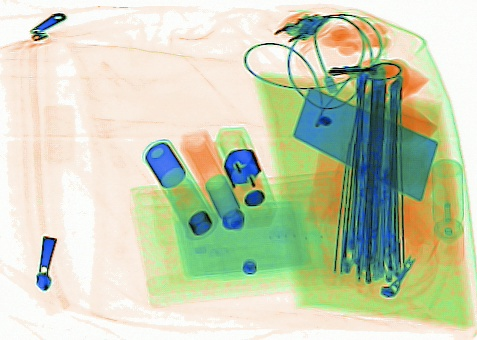pressure: (427, 156, 465, 248)
